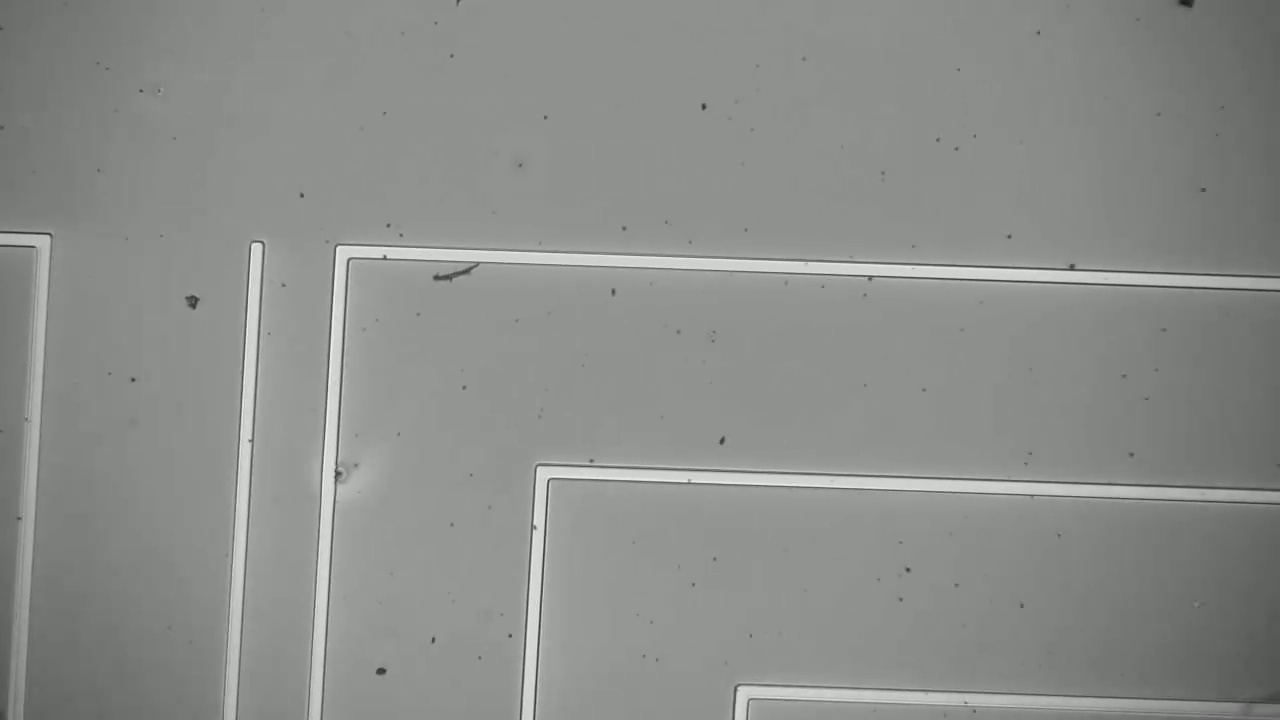stains_enbedded: (315, 460, 355, 496)
